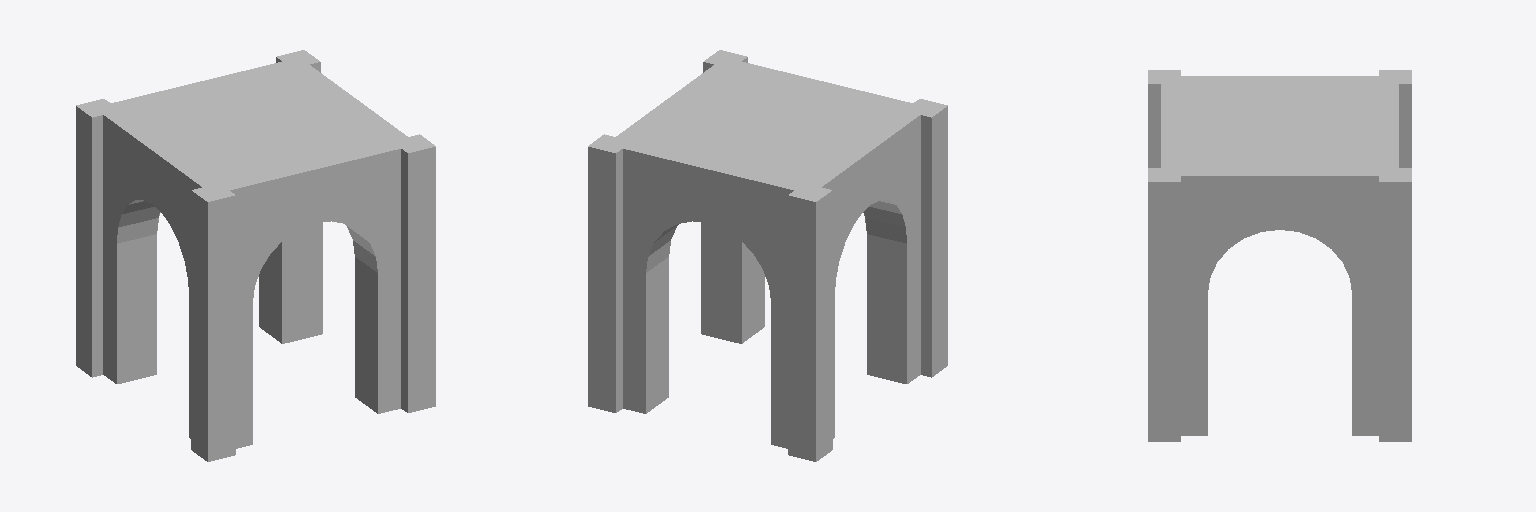
The model's file is towerSquareArch.obj.
The picture shows the model from 3 angles: view 1: azimuth 30°, elevation 25°; view 2: azimuth 150°, elevation 25°; view 3: azimuth 270°, elevation 25°; orthographic projection.
Parts seen in each view (by area): view 1: towerSquareArch; view 2: towerSquareArch; view 3: towerSquareArch.
Boxes of the visible parts, box(x1,y1,x2,y2) form: towerSquareArch: box(76, 50, 435, 461); towerSquareArch: box(588, 50, 947, 461); towerSquareArch: box(1148, 70, 1411, 441).
Bounding box in the file's own units: 9.3 × 10.1 × 9.3.